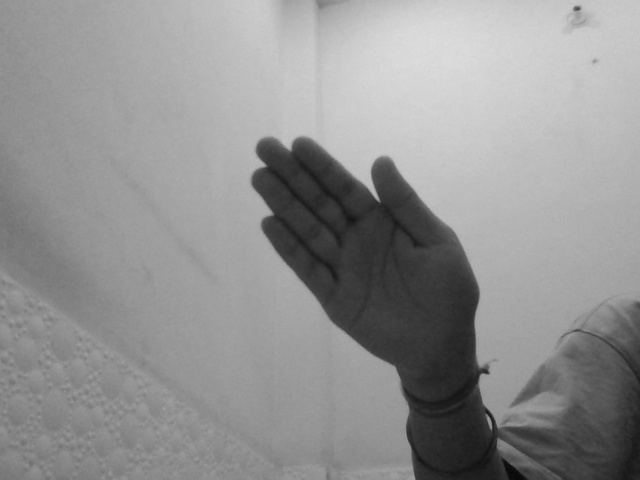Hello: (249, 131, 481, 374)
